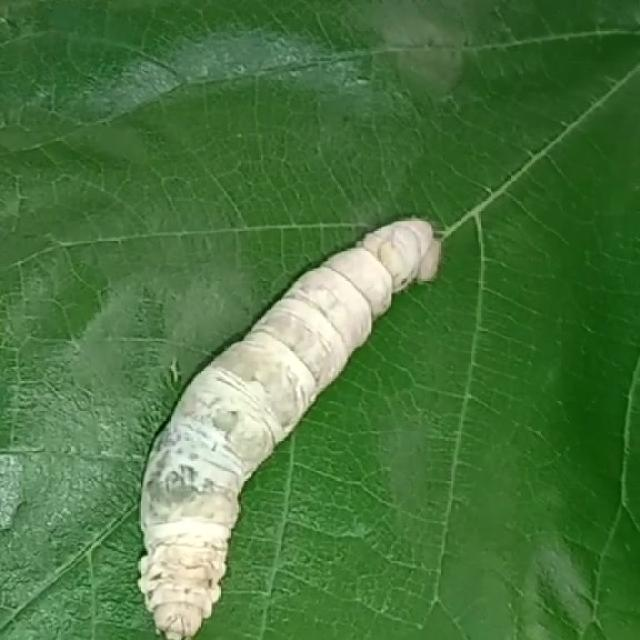Grasserie: (112, 192, 453, 638)
